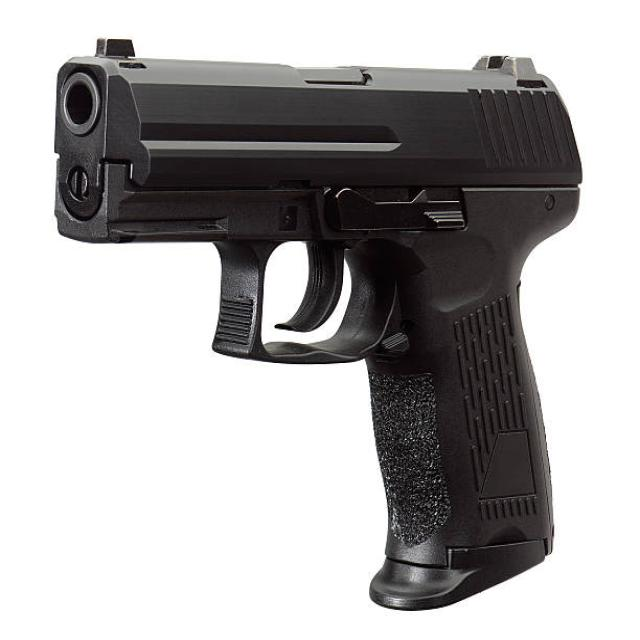pistol: (39, 39, 590, 625)
